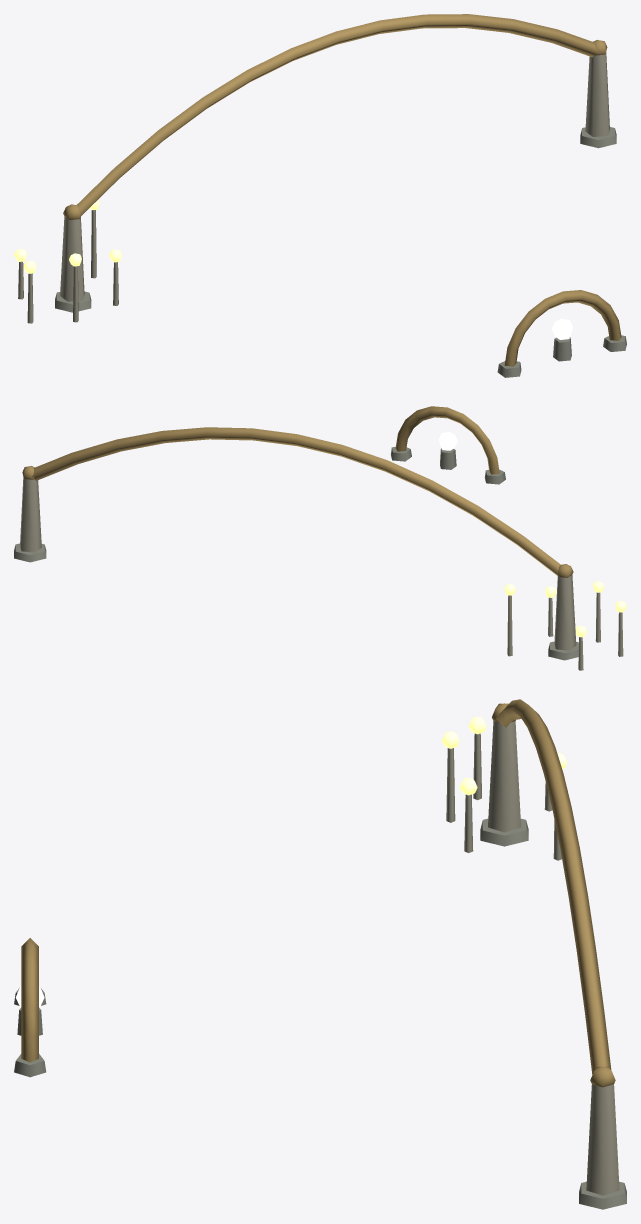
The model's file is landmark-r4-fermata-bridge-far.glb.
3 renders of one model, top to bottom at view 1: azimuth 30°, elevation 25°; view 2: azimuth 150°, elevation 25°; view 3: azimuth 270°, elevation 25°, orthographic. The views are drawn at different scales.
Parts seen in each view (by area): view 1: Static_far, Lantern_dots; view 2: Static_far, Lantern_dots; view 3: Static_far, Lantern_dots.
Part boxes in pixels (x1=…): Static_far: x1=18, y1=14, x2=626, y2=377; Lantern_dots: x1=14, y1=199, x2=121, y2=273; Static_far: x1=14, y1=406, x2=623, y2=670; Lantern_dots: x1=504, y1=581, x2=626, y2=637; Static_far: x1=14, y1=699, x2=626, y2=1209; Lantern_dots: x1=442, y1=717, x2=566, y2=795.
Size of the model in its own units: 109 by 31.1 by 68.49.
